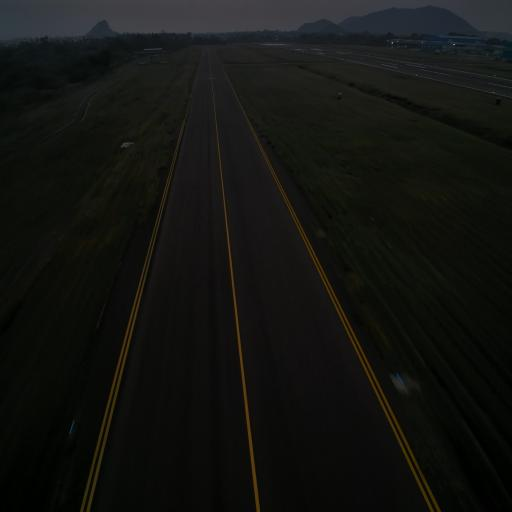on: (394, 368, 405, 389), (66, 416, 76, 438)
